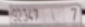2: (16, 8, 22, 22)
3: (22, 8, 27, 22)
4: (28, 9, 33, 21)
7: (70, 6, 78, 21), (33, 8, 38, 21)
9: (12, 8, 17, 22)
a: (49, 7, 56, 20)
